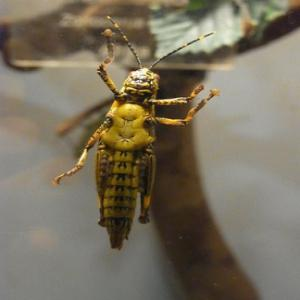locust: (42, 26, 226, 246)
